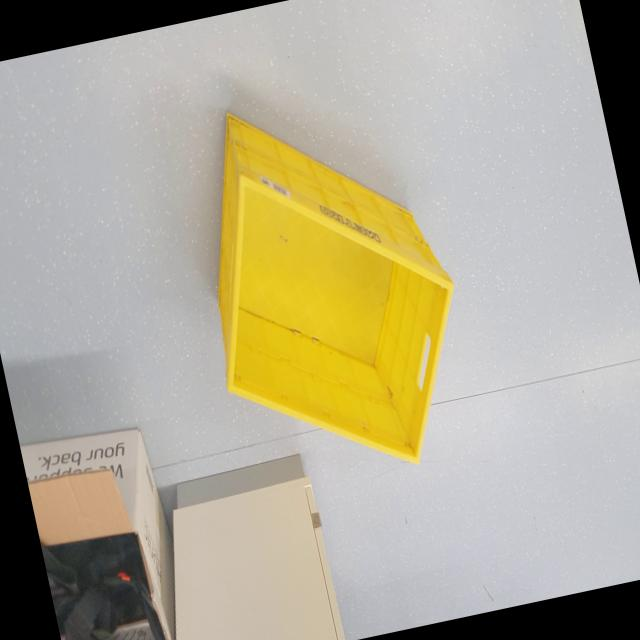box: (161, 60, 496, 506)
